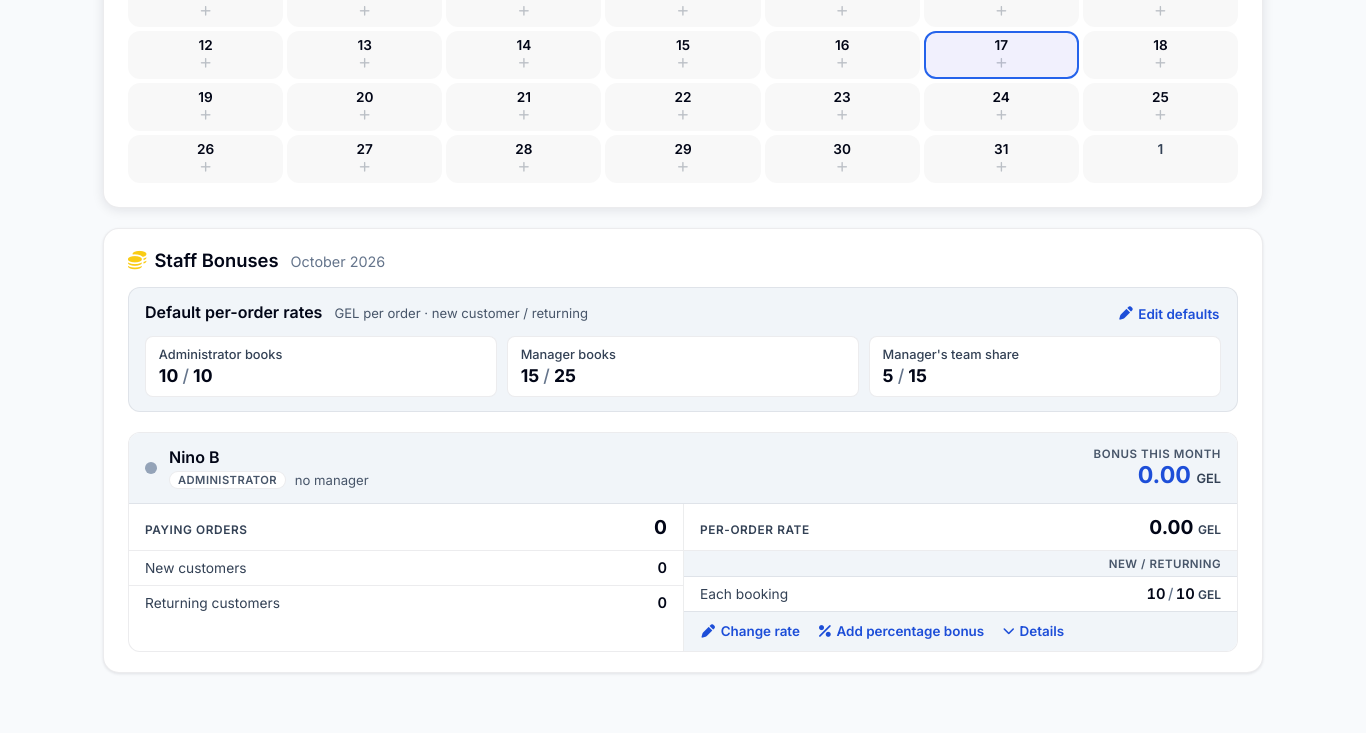
ShiftsComponent › one admin's orders › asks for the visible month and lists each order by its id, without any customer details
(page scrolled)
Click the button with class "bonus-details-btn".
click(1034, 632)  # box [1002,620,1066,643]
(page scrolled)
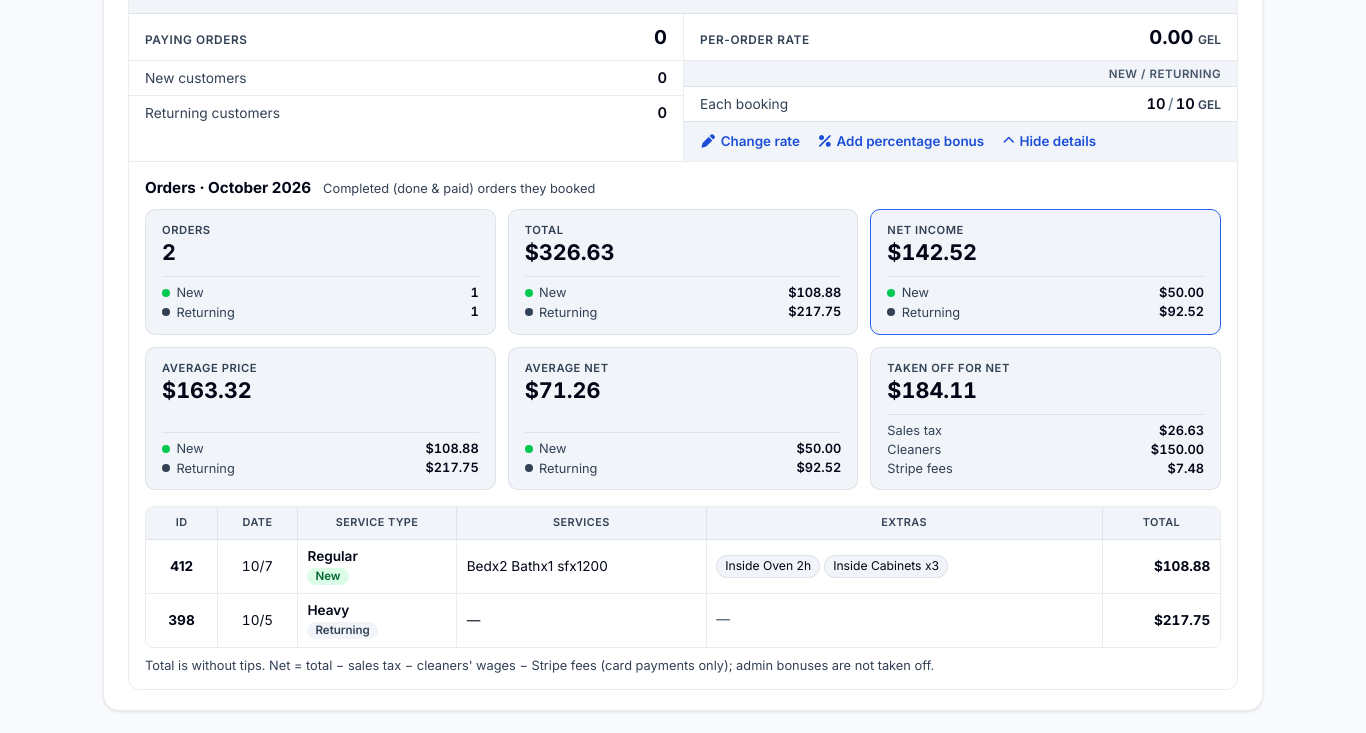
Check: the element with class "bonus-orders" is shown, box [129,161,1237,688]
Check: the cell "Regular New" is shown, box [298,540,457,594]
Check: the cell "Bedx2 Bathx1 sfx1200" is shown, box [457,540,707,594]
